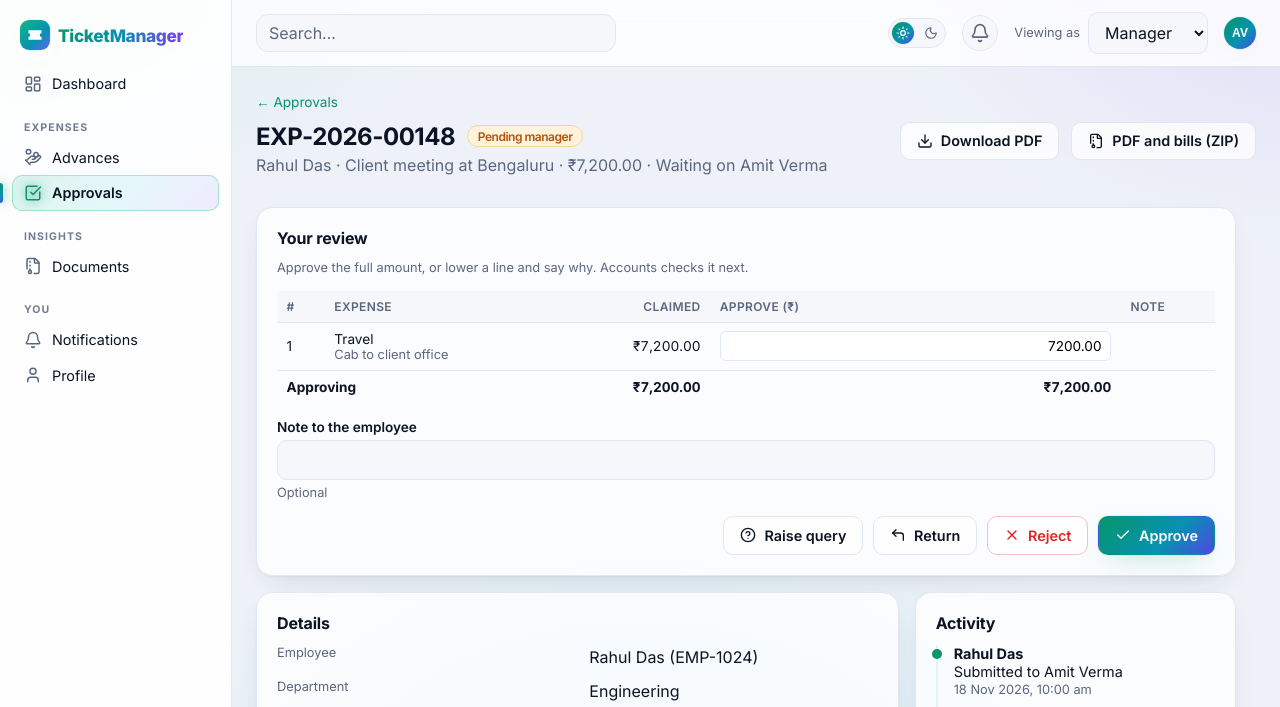
Test: Approvals › asks for a reason before rejecting
Click the button "Reject" at (1038, 536), box [987,516,1088,555]
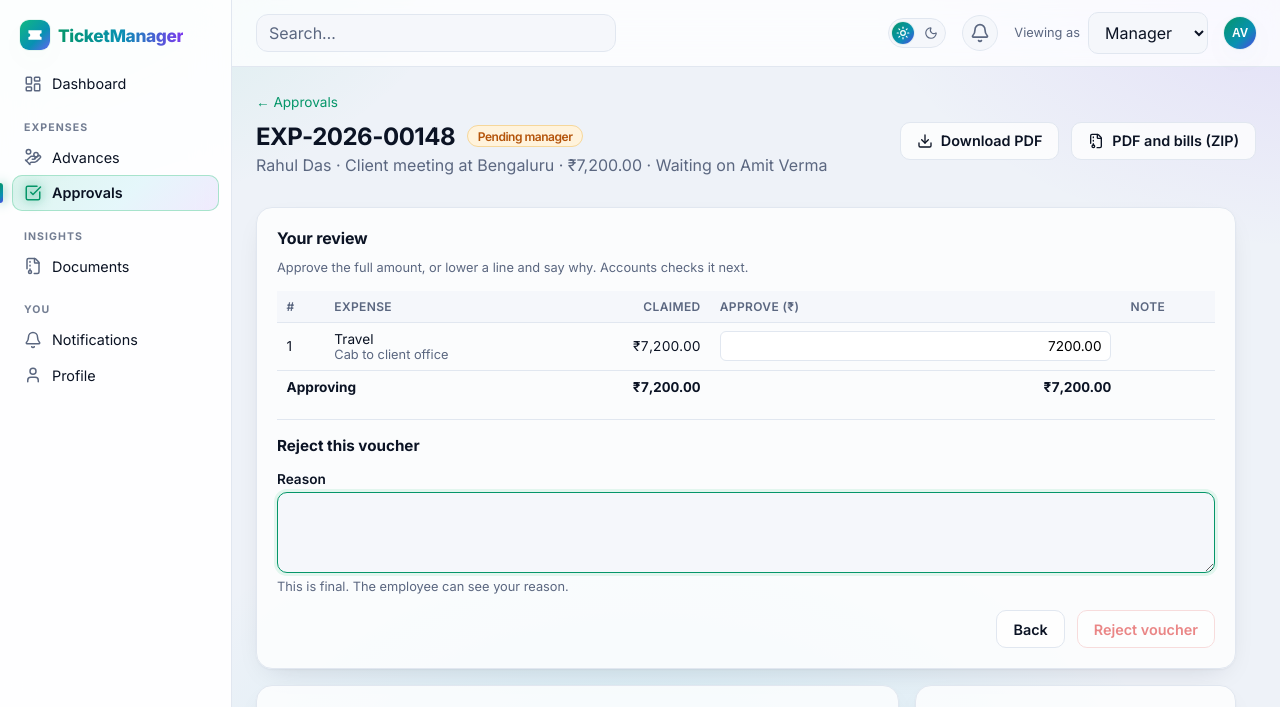
expect the button "Reject voucher" is disabled: met, box [1077,610,1215,648]
Type "Personal expense" into the text box labelled "Reason" at (746, 533), box [277,492,1215,573]
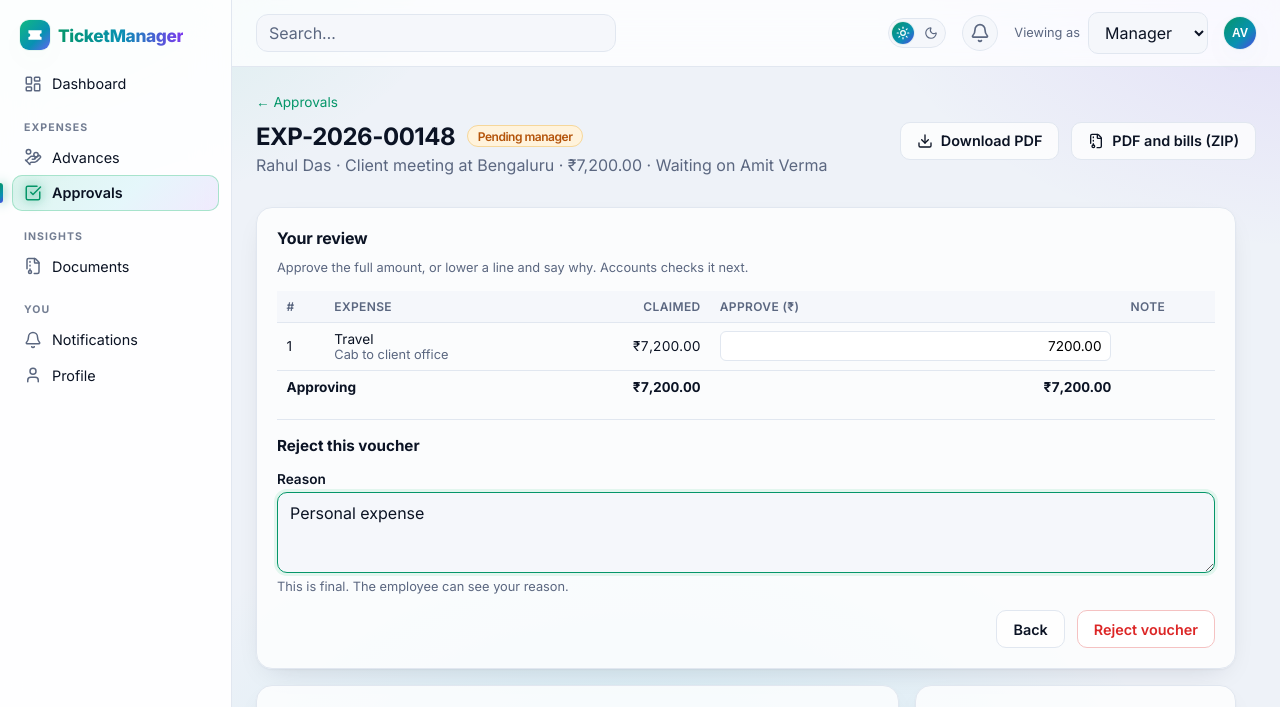
Click the button "Reject voucher" at (1146, 629), box [1077,610,1215,648]
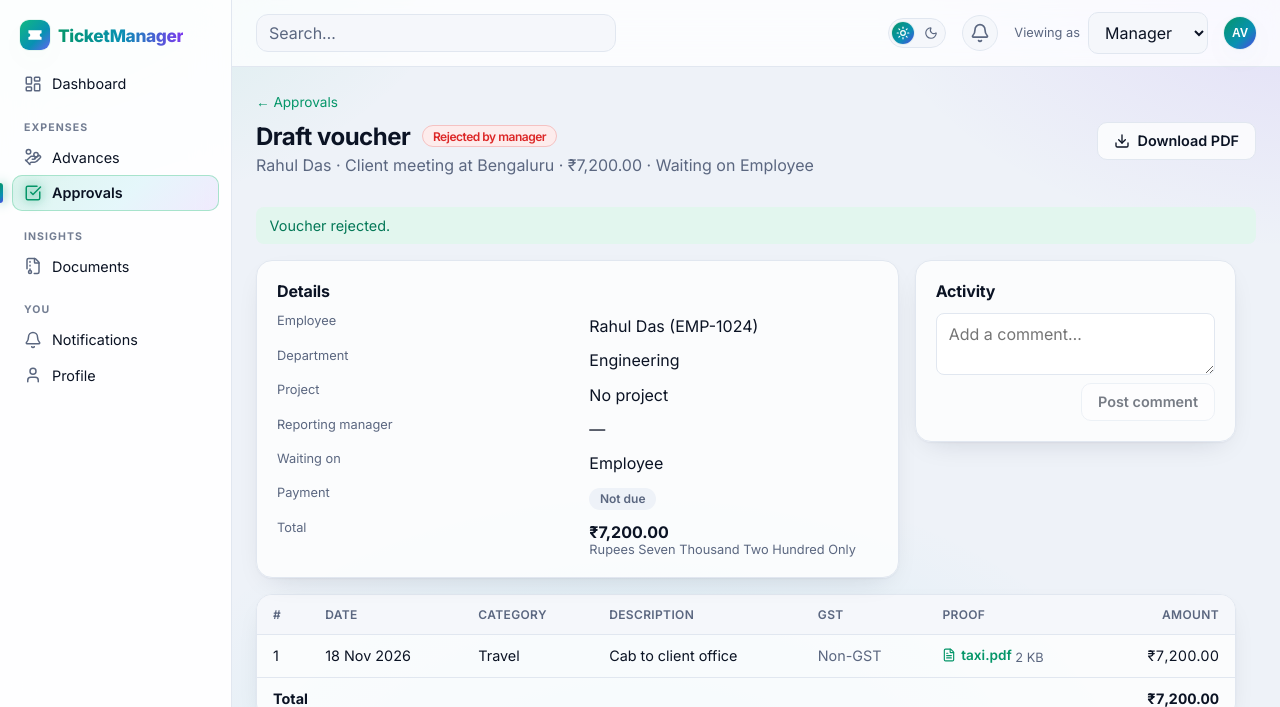
expect the text "Voucher rejected." is shown: met, box [256,207,1256,244]
